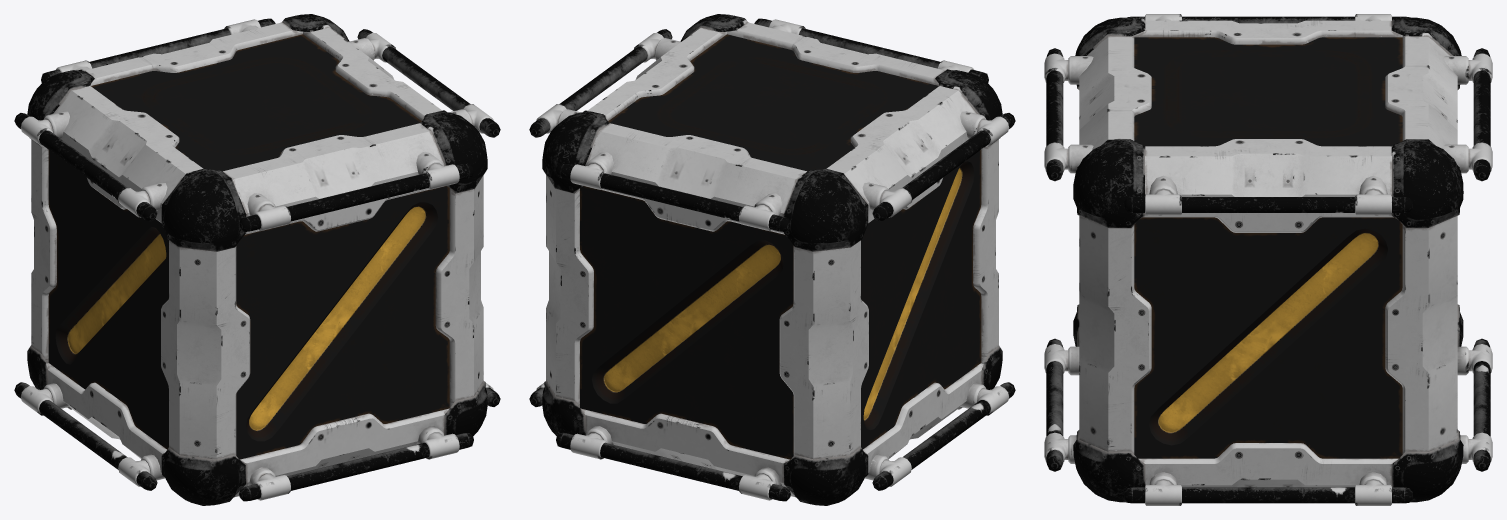
File: GymCrate.fbx
The picture shows the model from 3 angles, left to right: view 1: azimuth 30°, elevation 25°; view 2: azimuth 150°, elevation 25°; view 3: azimuth 270°, elevation 25°; orthographic projection. The views are drawn at different scales.
Parts seen in each view (by area): view 1: GymCrate001; view 2: GymCrate001; view 3: GymCrate001.
Part boxes in pixels (bbox=[...]): GymCrate001: bbox=[14, 14, 500, 505]; GymCrate001: bbox=[529, 14, 1015, 505]; GymCrate001: bbox=[1044, 14, 1492, 505].
Bounding box in the file's own units: 115 × 99.81 × 115.
